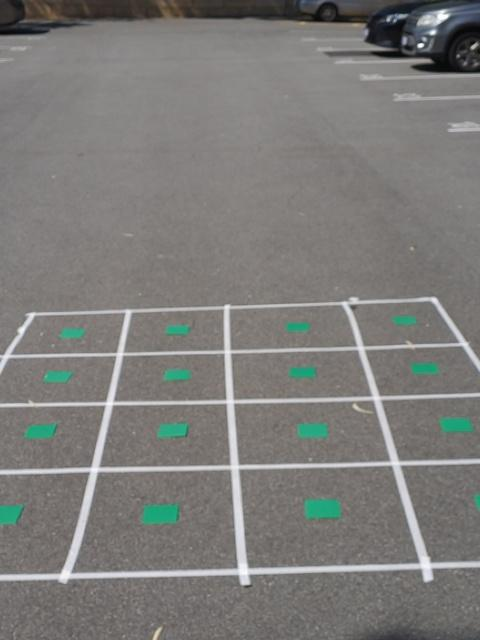weed: (140, 502, 182, 525), (301, 497, 344, 519), (439, 416, 476, 433), (0, 503, 26, 527), (409, 358, 440, 378), (156, 423, 190, 441), (296, 421, 329, 439), (25, 421, 59, 438), (164, 367, 192, 383), (44, 370, 74, 384), (288, 365, 317, 378), (393, 312, 418, 327), (164, 324, 191, 337), (61, 326, 87, 339), (287, 322, 309, 333), (474, 492, 480, 509)
